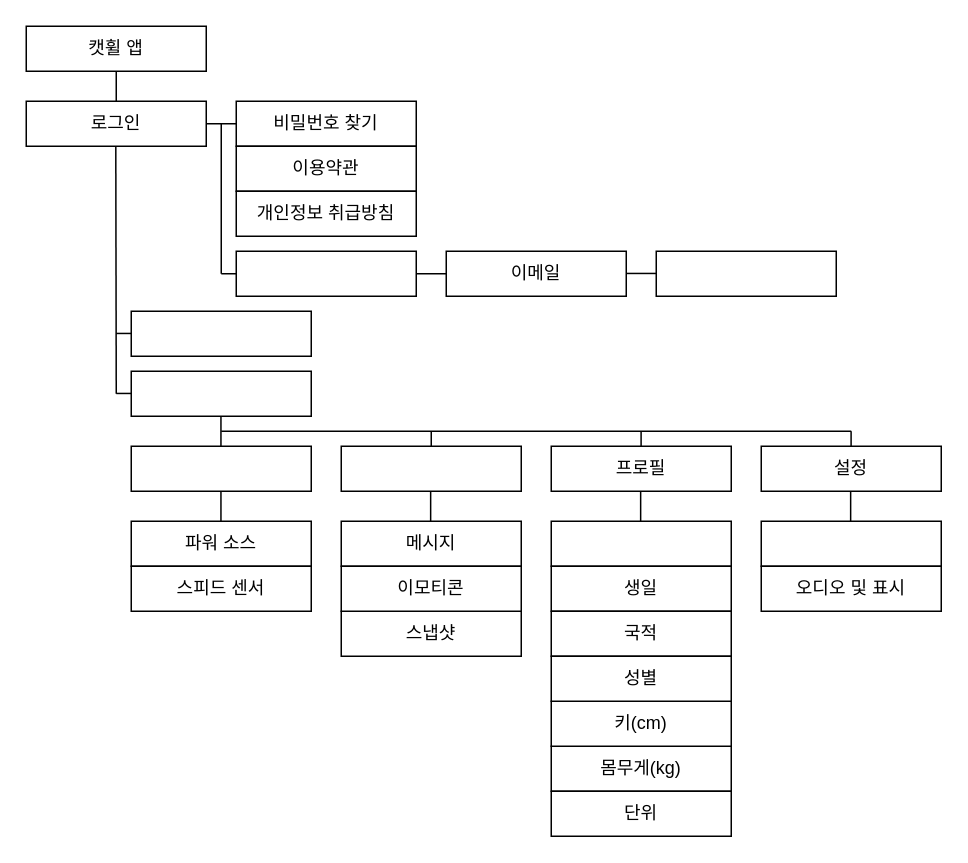
This 968x863 diagram has some shape labels left out. Here are the shapes that lost their labels. From the top down, the centre of each, then its label:
At (x=325, y=273): "회원가입".
At (x=745, y=273): "회원정보 입력".
At (x=220, y=333): "사용자 변경".
At (x=220, y=393): "시작".
At (x=220, y=468): "디바이스 연동".
At (x=430, y=468): "경주".
At (x=640, y=543): "이름".
At (x=850, y=543): "환경 설정".
